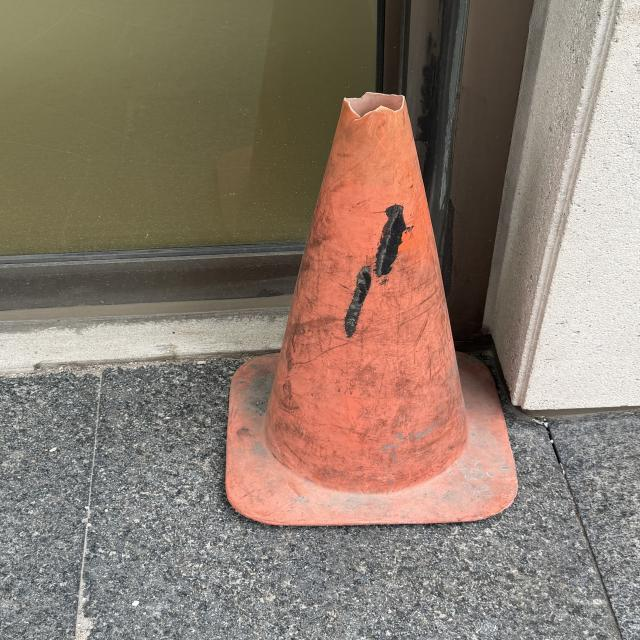Traffic Cone: (219, 87, 523, 530)
